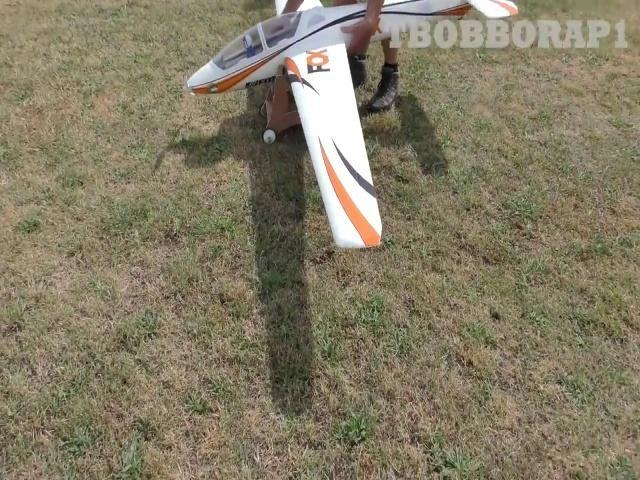Airplane: (186, 1, 519, 248)
